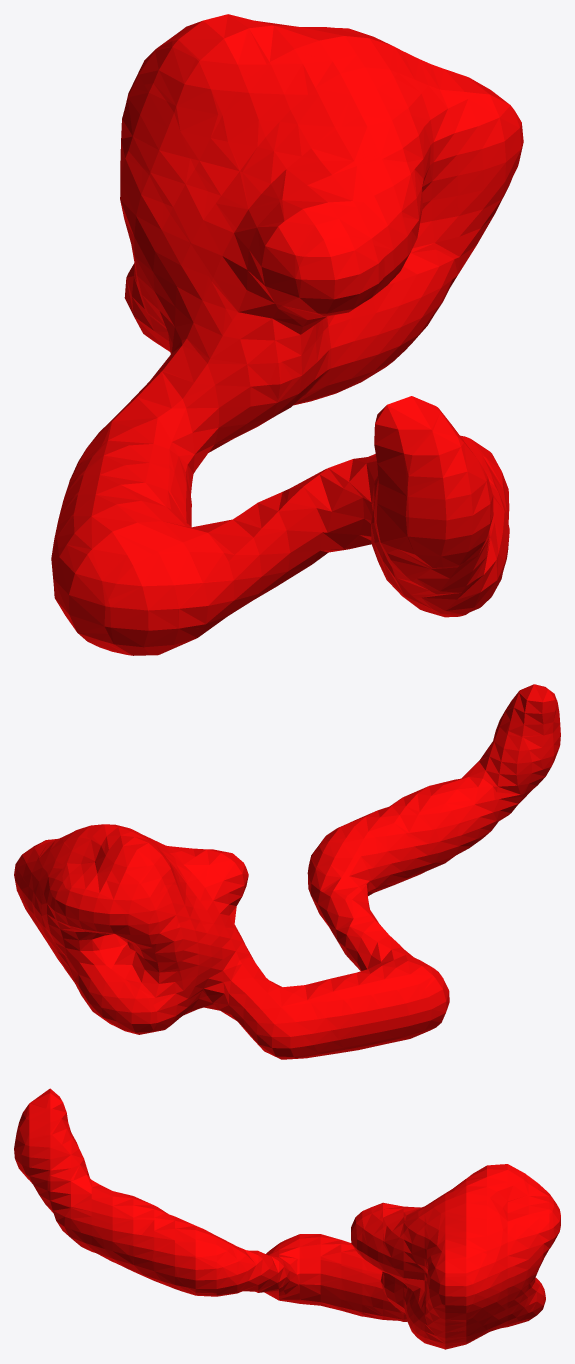
Rendered from atpC_coarse.dae.
The picture shows the model from 3 angles, top to bottom: view 1: azimuth 30°, elevation 25°; view 2: azimuth 150°, elevation 25°; view 3: azimuth 270°, elevation 25°; orthographic projection. The views are drawn at different scales.
Parts seen in each view (by area): view 1: atpC; view 2: atpC; view 3: atpC.
Part boxes in pixels (bbox=[...]): atpC: bbox=[51, 14, 523, 655]; atpC: bbox=[14, 684, 560, 1059]; atpC: bbox=[14, 1088, 560, 1349].
Size of the model in its own units: 54.75 by 37.3 by 86.07.
